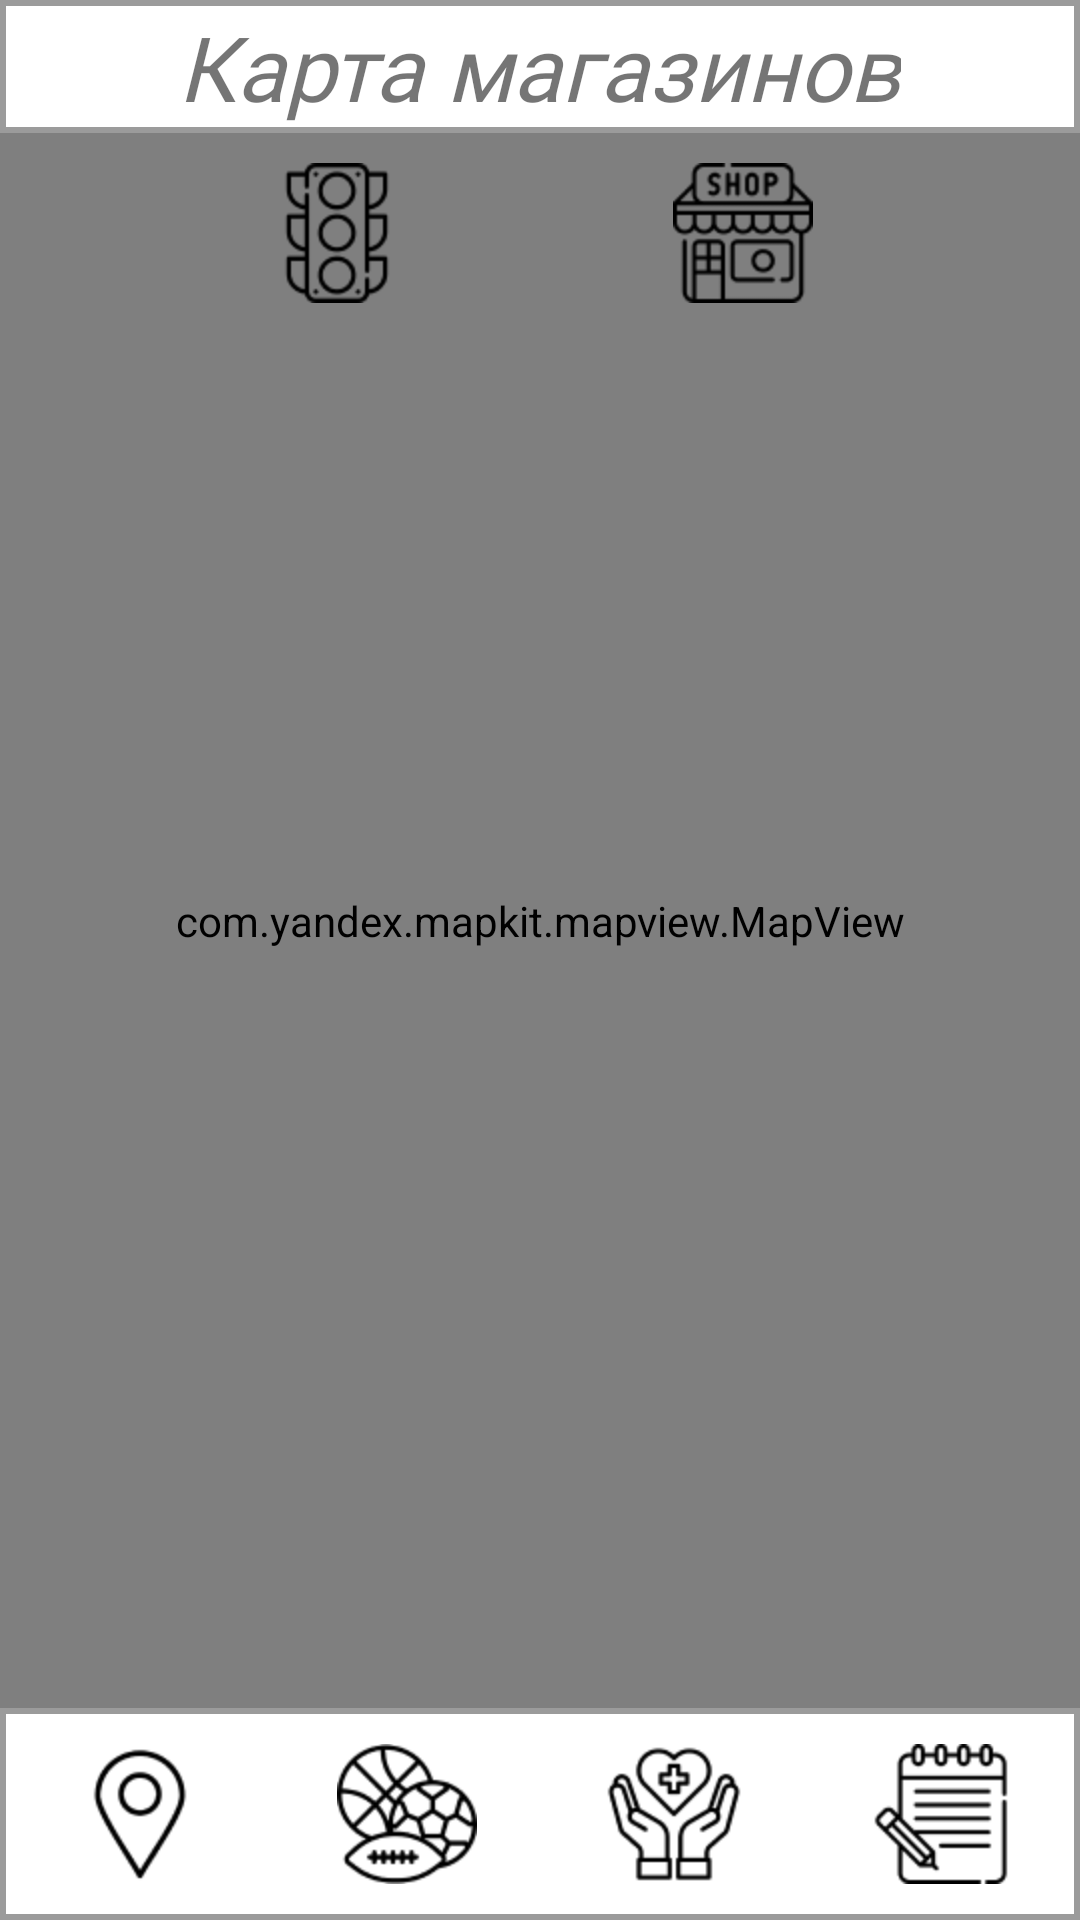

Icons on this 1080px×1920px Android screen, each with the point to tap as point (x, y):
traffic: point (337, 233)
Добавить заметку: point (940, 1814)
Здоровье: point (674, 1814)
Карта магазинов: point (139, 1814)
Спорт: point (407, 1814)
